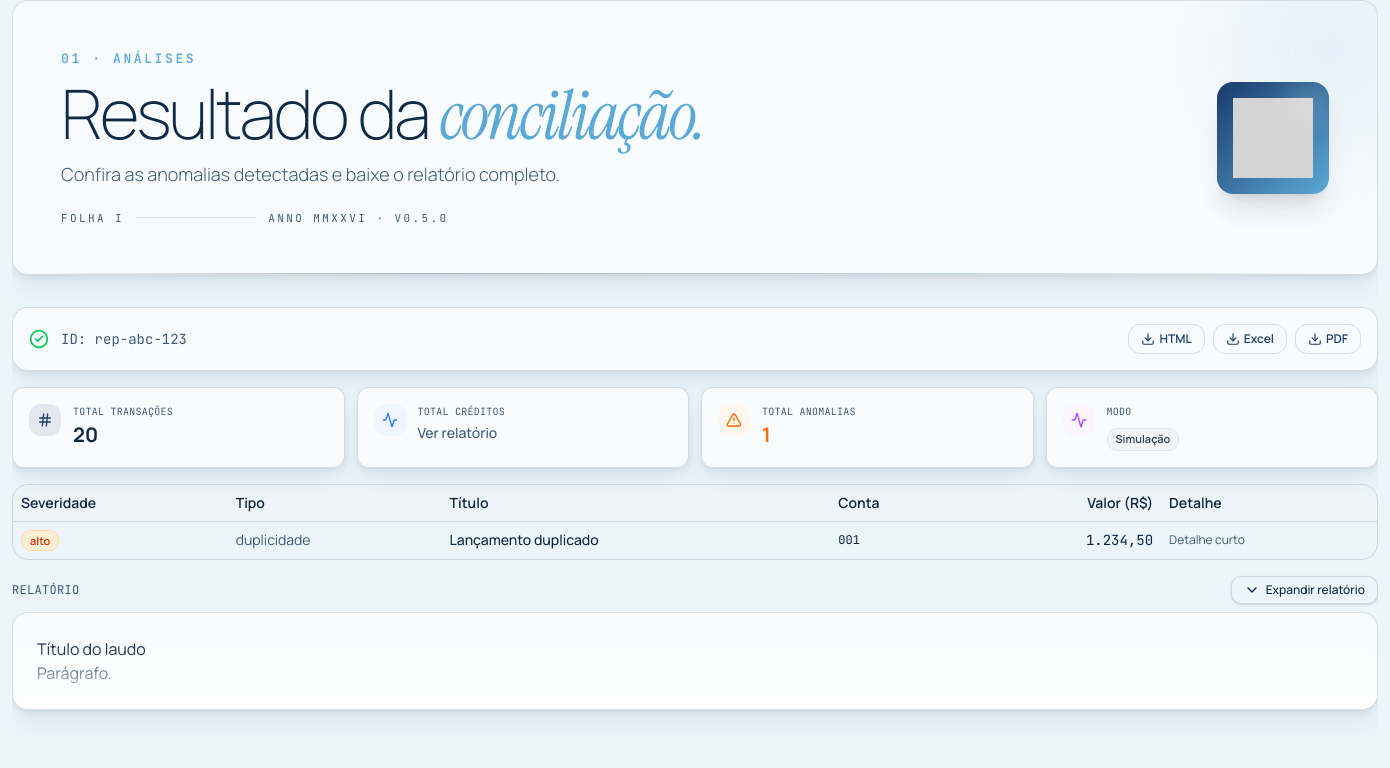
it: ConciliacaoPage › renderiza o relatorio markdown e alterna entre expandir e recolher
expect the heading "Título do laudo" is shown: met, box [37,638,146,660]
Click the button "Expandir relatório". click: click(1304, 590)
box: [1231,576,1378,604]
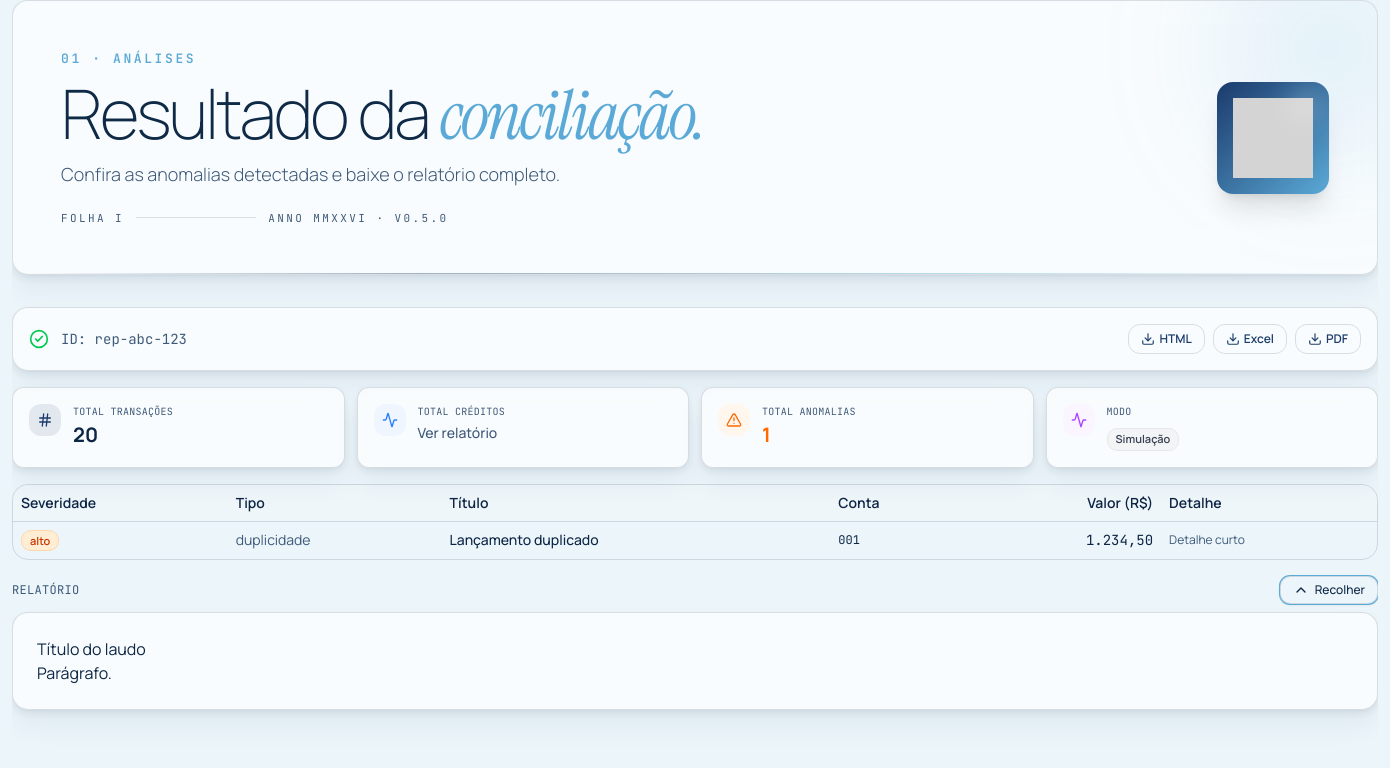
expect the button "Recolher" is shown: met
expect the button "Expandir relatório" is gone: met
# recolher de volta
Click the button "Recolher". click: click(1329, 590)
box: [1280,576,1378,604]
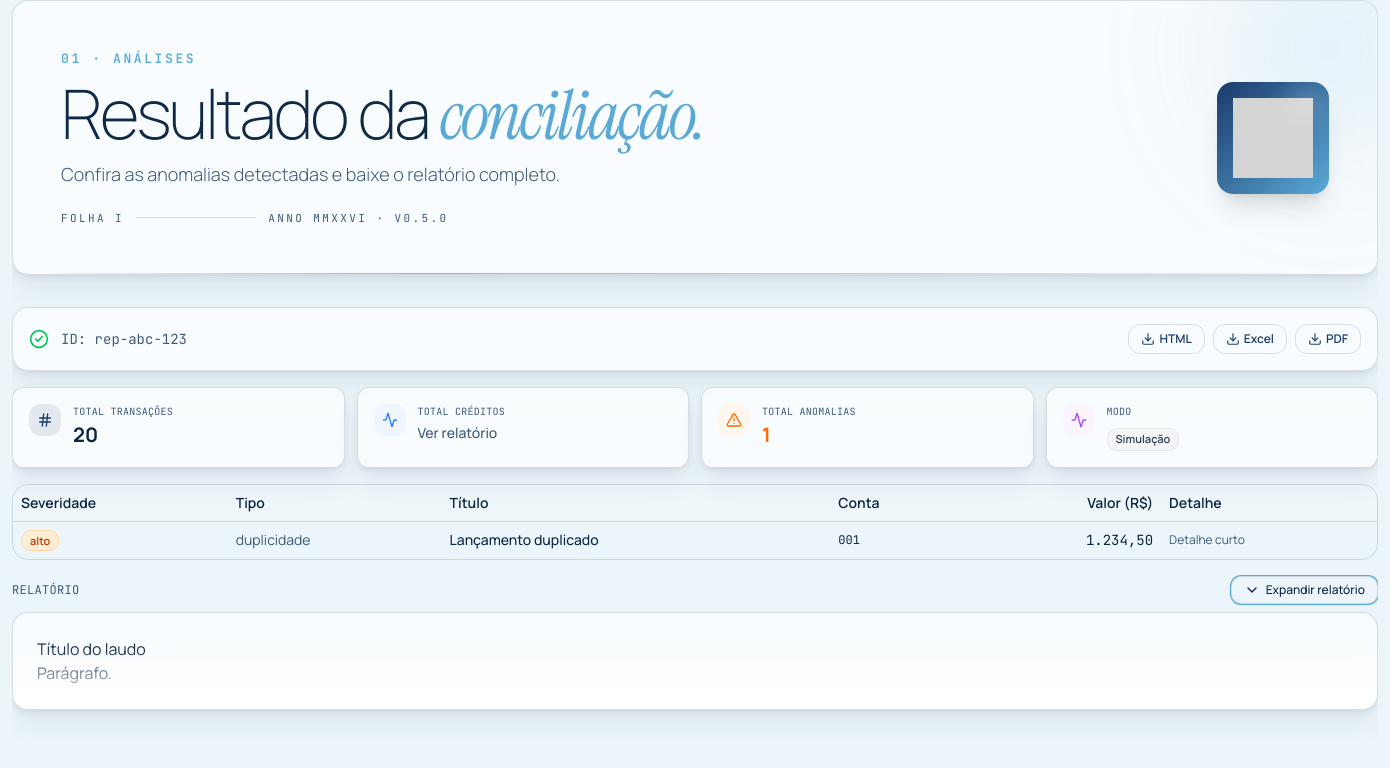
expect the button "Expandir relatório" is shown: met, box [1231,576,1378,604]
